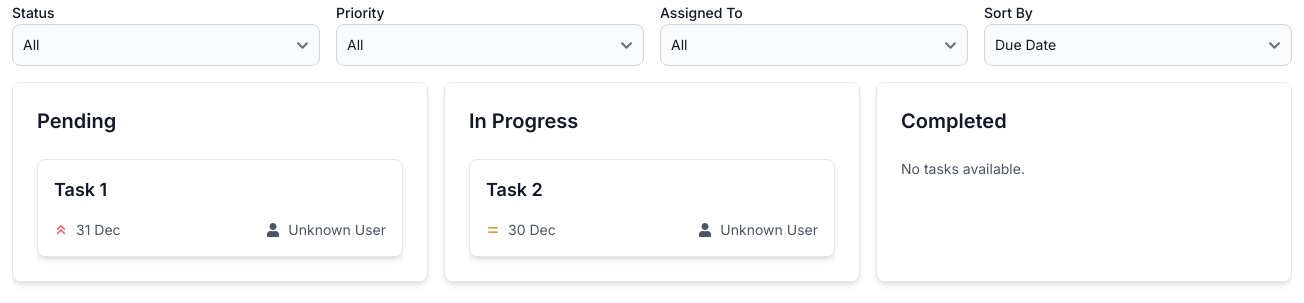
DashboardPage Component › should apply filters and sort tasks
# Simulate changing the status filter to "pending"
Select "Pending" in the dropdown labelled "Status" at [166, 45], box [12, 24, 320, 66]
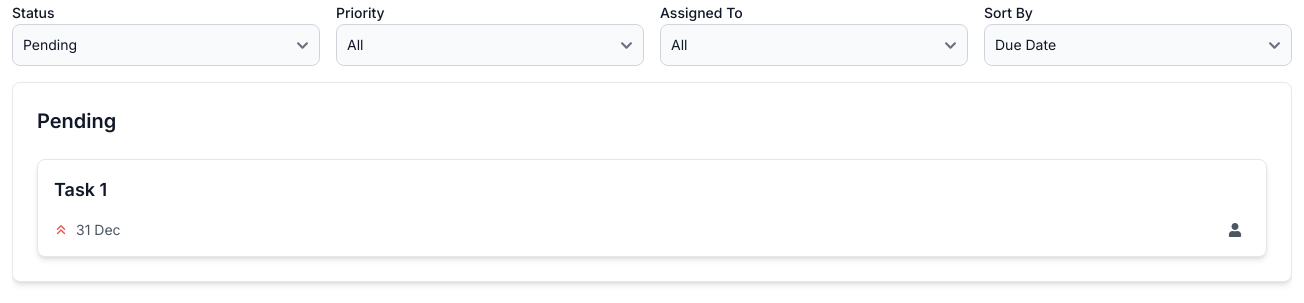
Check: the heading "Task 1" is shown, box [54, 179, 107, 200]
Check: the link "Task 2" is gone
